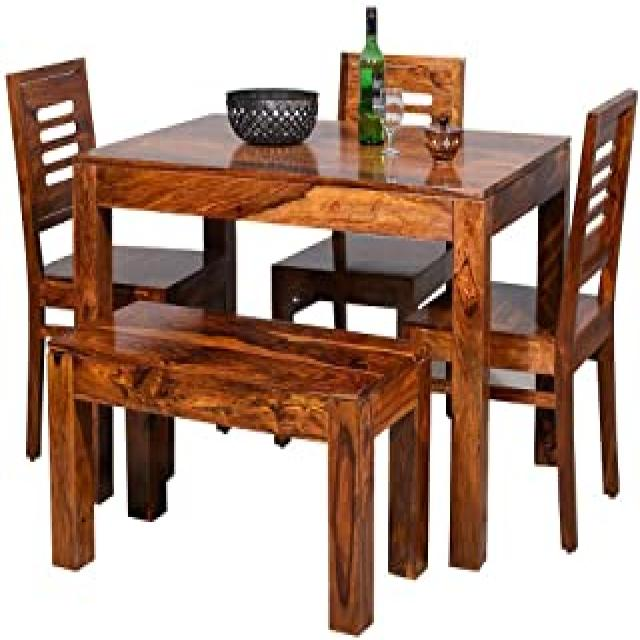obstacle: (36, 274, 452, 604), (518, 54, 640, 611)
